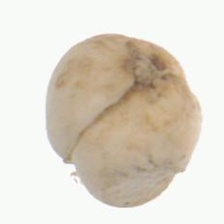L4: (45, 33, 202, 208)
